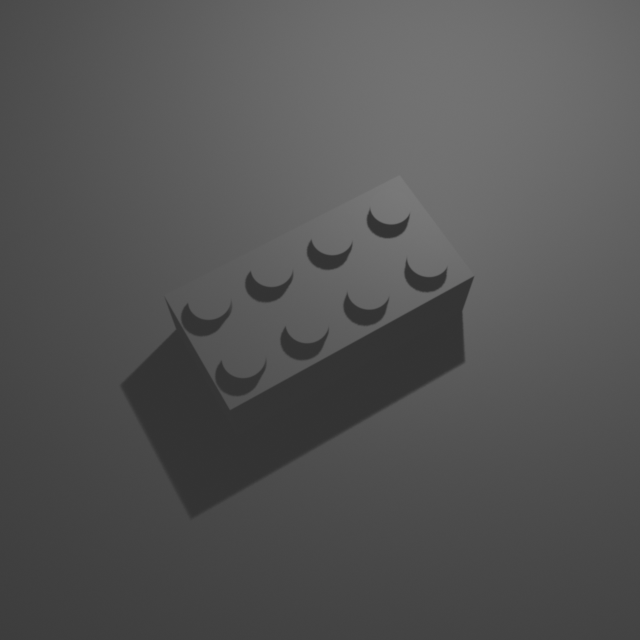lego_2x4: (162, 168, 477, 436)
